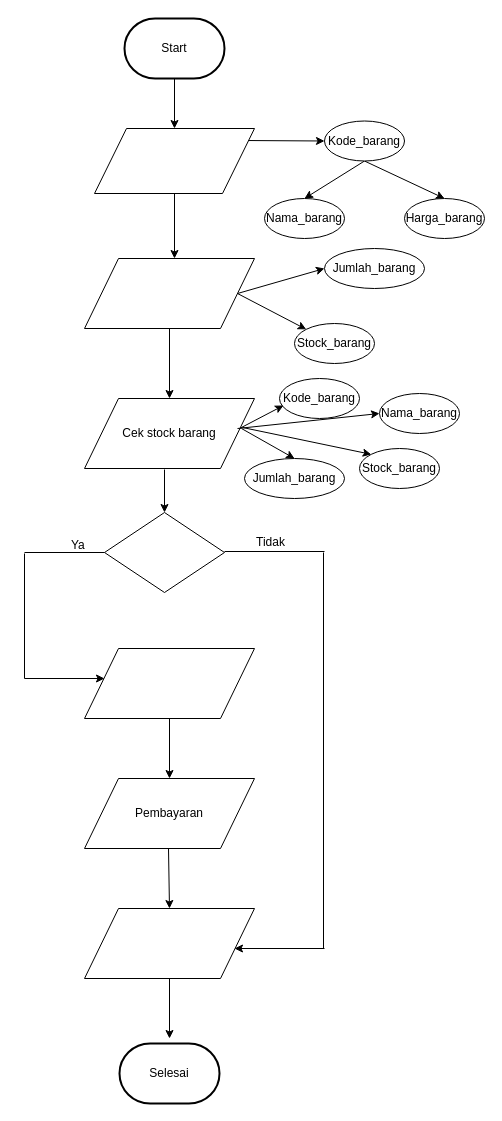
This 502x1121 diagram has some shape labels left out. Here are the shapes that lost their labels. From the top down, the box of each, then its label:
(94, 128, 254, 194): Kasir menginputkan barang
(84, 258, 254, 328): Kasir menginputkan Jumlah barang
(104, 512, 224, 592): Tersedia
(84, 648, 254, 718): Ditambahkan ke daftar
(84, 908, 254, 978): Cetak
